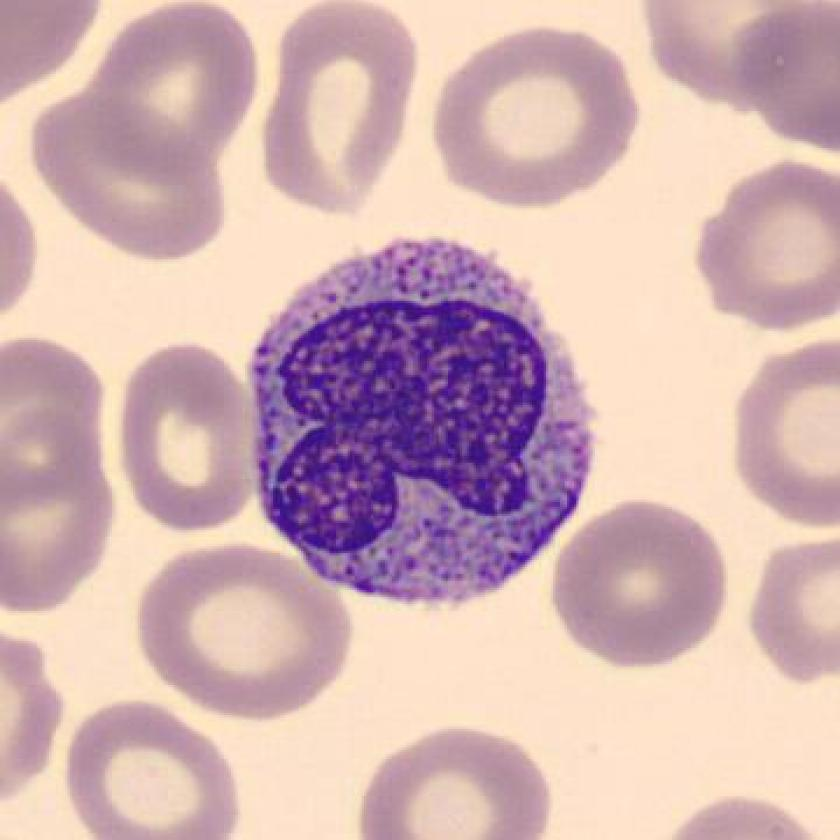monocyte: (234, 223, 615, 631)
